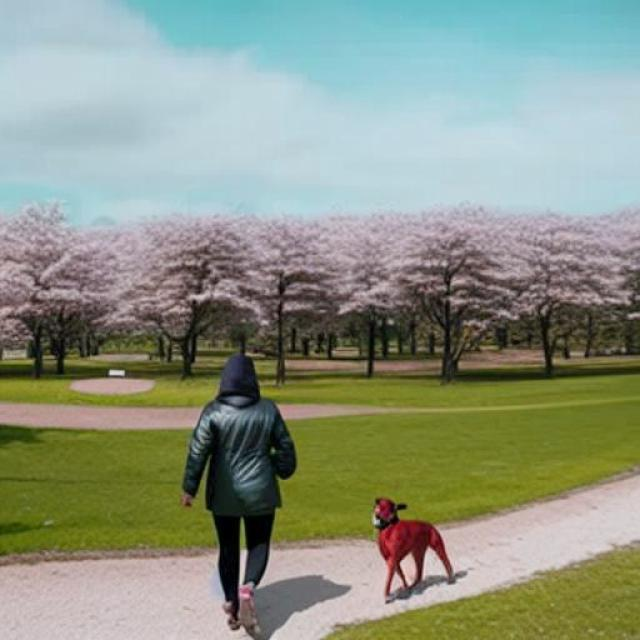Unleashed_Dog: (209, 471, 455, 604)
